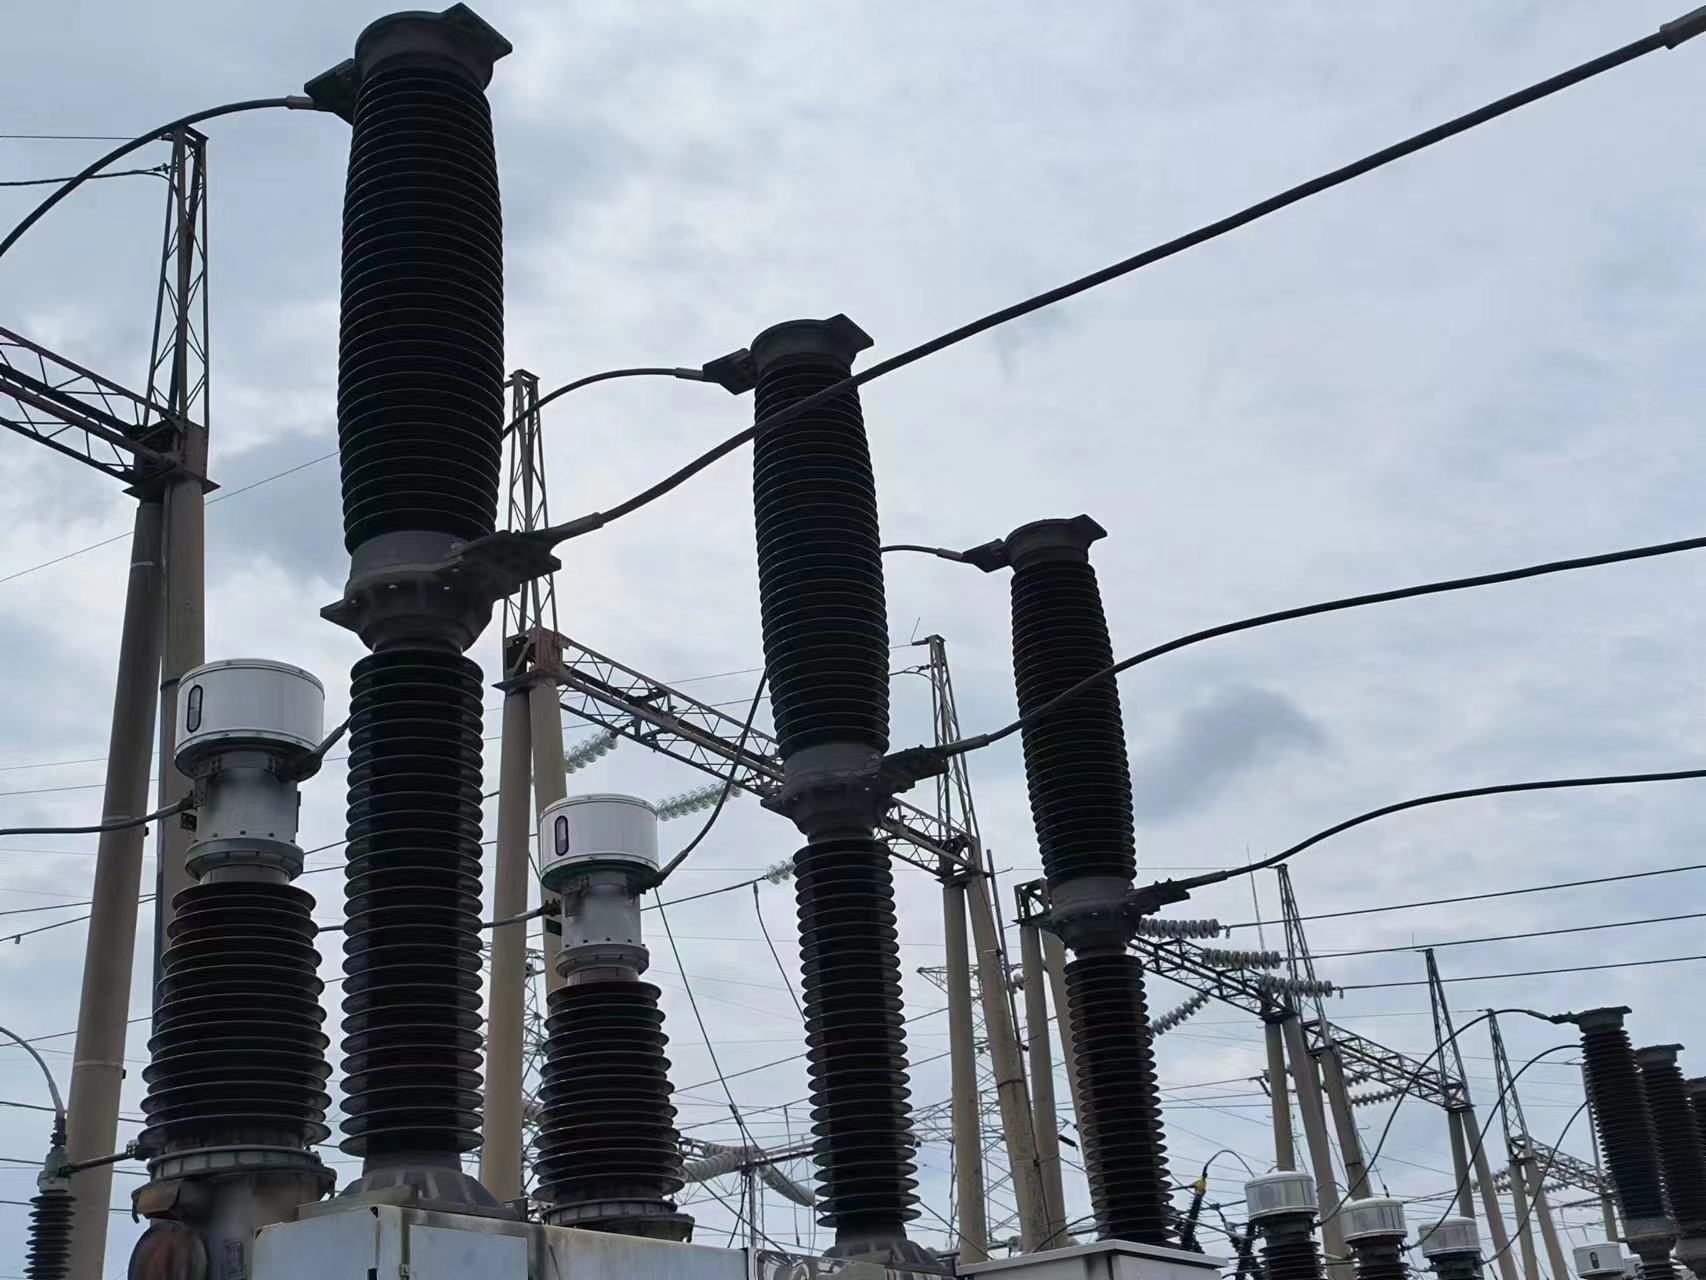Circuit-breaker: (320, 1, 516, 1179), (717, 303, 928, 1236), (975, 518, 1213, 1242)
Current transformer: (137, 657, 341, 1168), (536, 795, 688, 1238)
